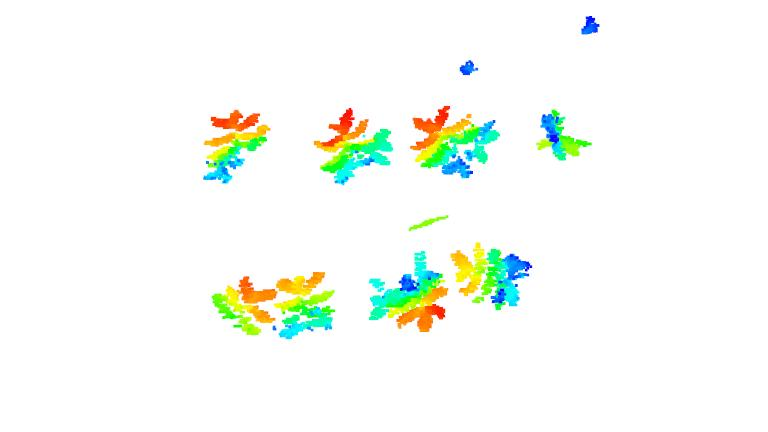chickpea: (368, 248, 453, 338), (411, 100, 500, 181), (314, 106, 393, 187), (195, 107, 270, 186), (450, 240, 531, 312), (207, 272, 278, 339), (276, 269, 336, 338), (534, 108, 593, 163)
